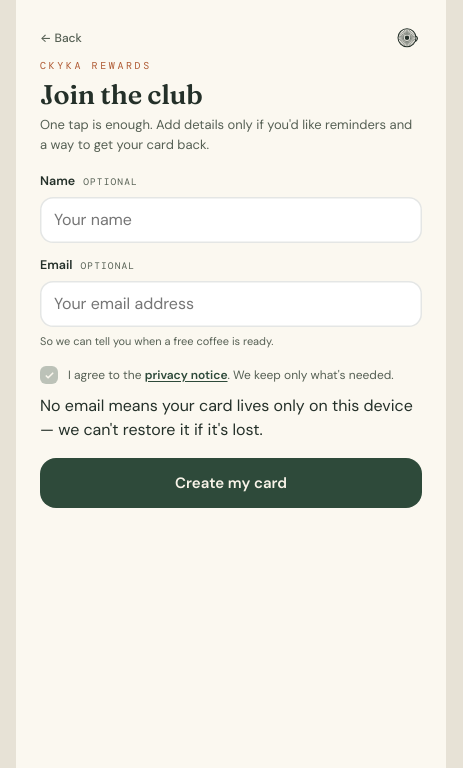
Test case: Register › maps field errors onto the inputs
Step 1. Click the button "Create my card" → {"x": 231, "y": 483}, box [40,458,422,508]
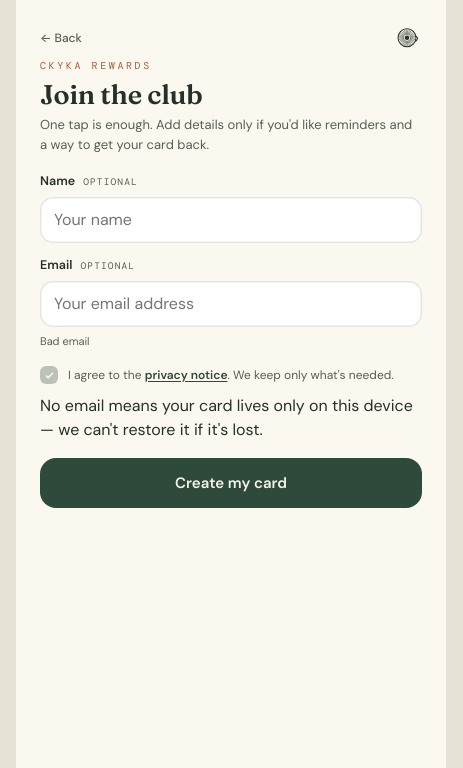
Expected: the text "Bad email" is shown, [40,334,90,348]
